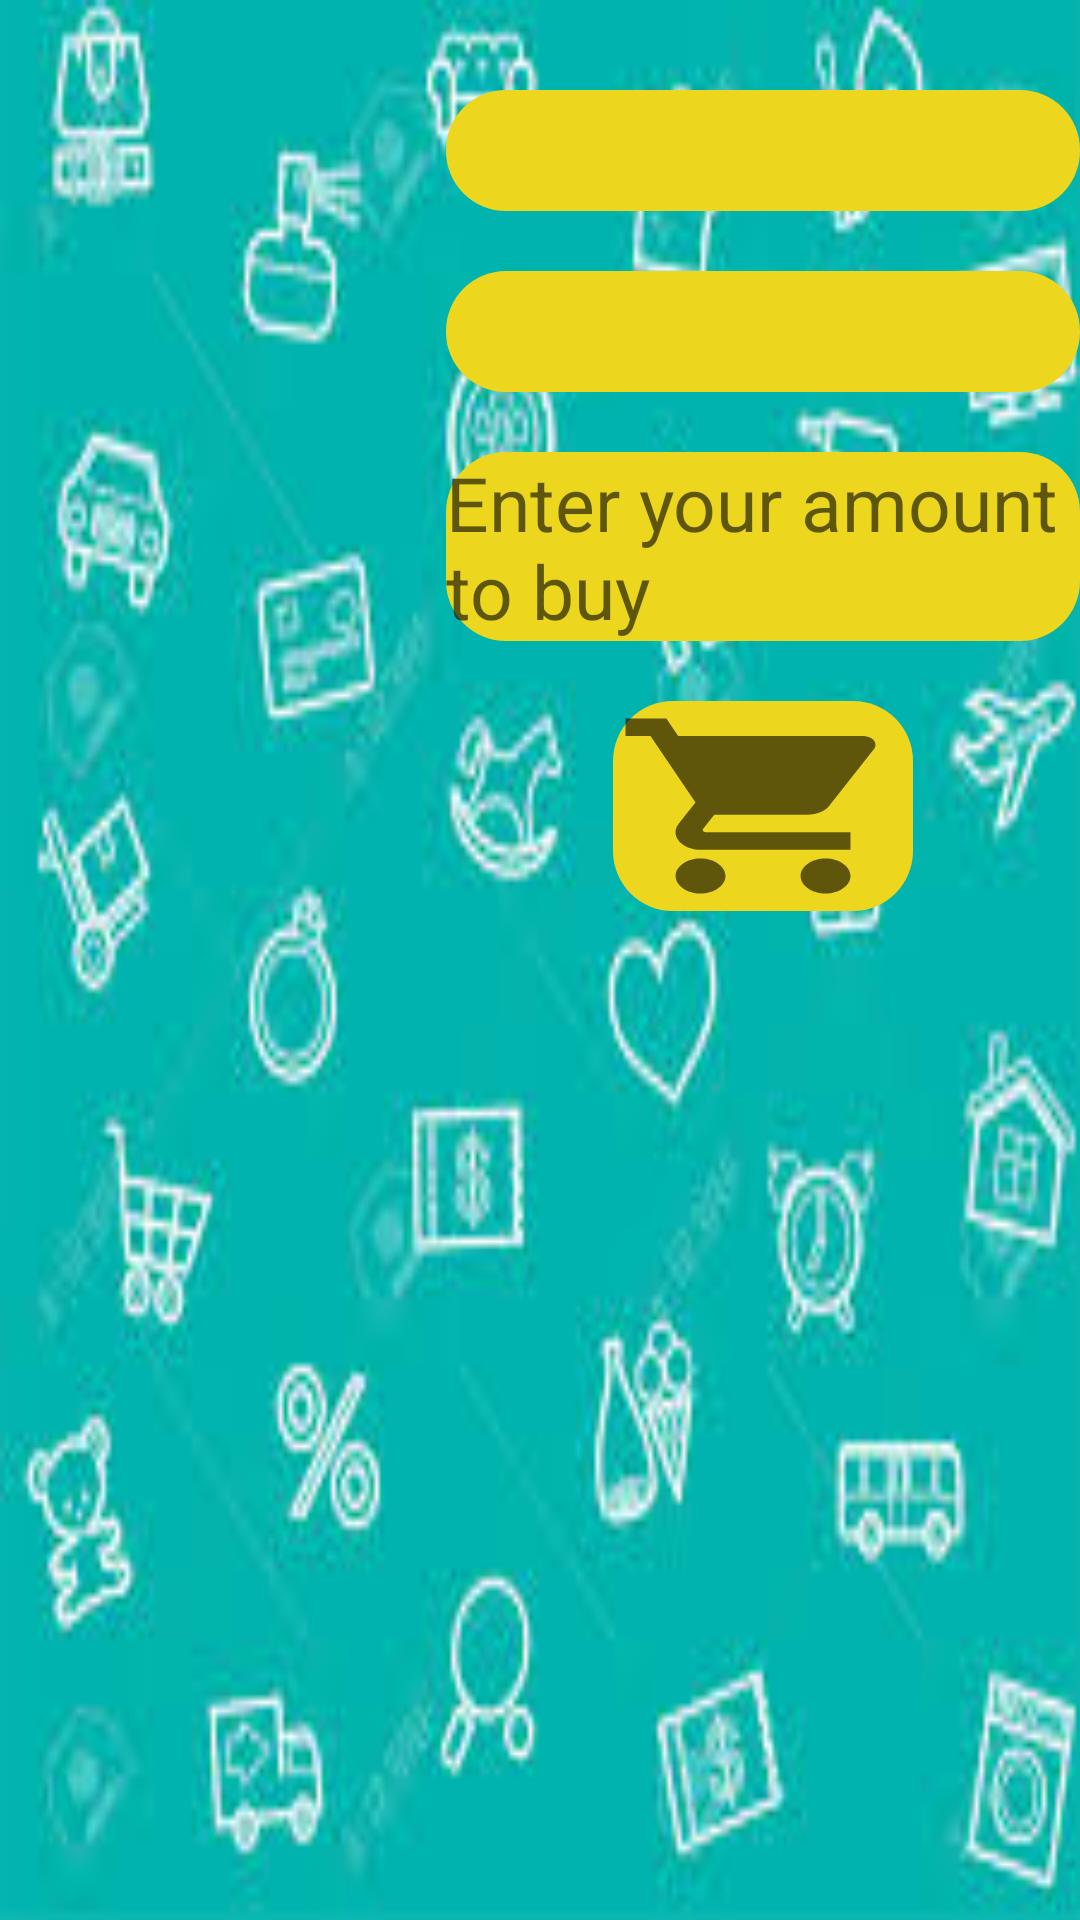

Locate icon controls on the screen. Image size 1080*1920, boxes as (x1, y1, x2, y2).
shopping cart: (613, 701, 913, 911)
